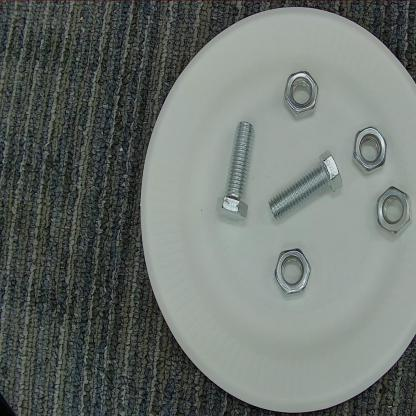FOD: (268, 149, 341, 228), (210, 108, 254, 231), (280, 58, 323, 125), (372, 181, 414, 242), (348, 120, 391, 179), (272, 242, 314, 301)
